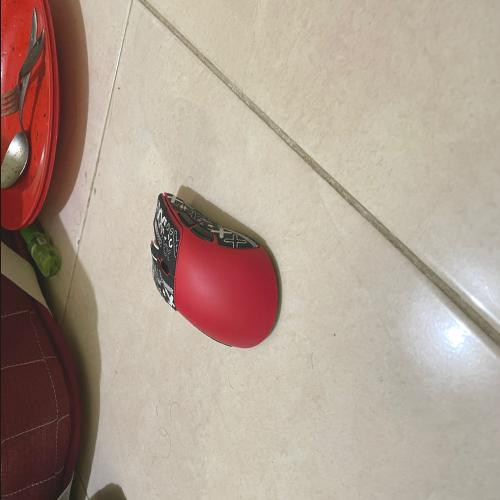Mouse: (134, 180, 294, 370)
